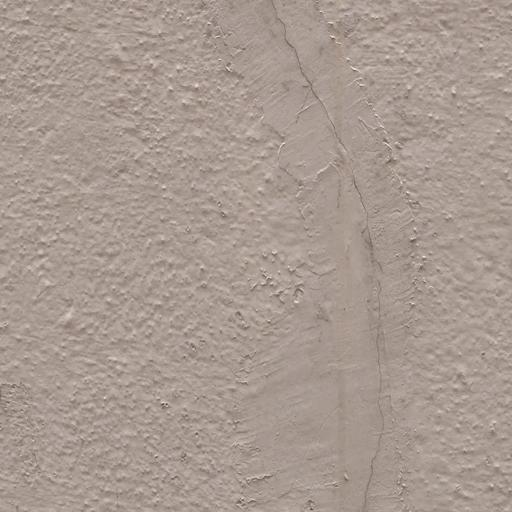minor_crack: (245, 0, 400, 512)
